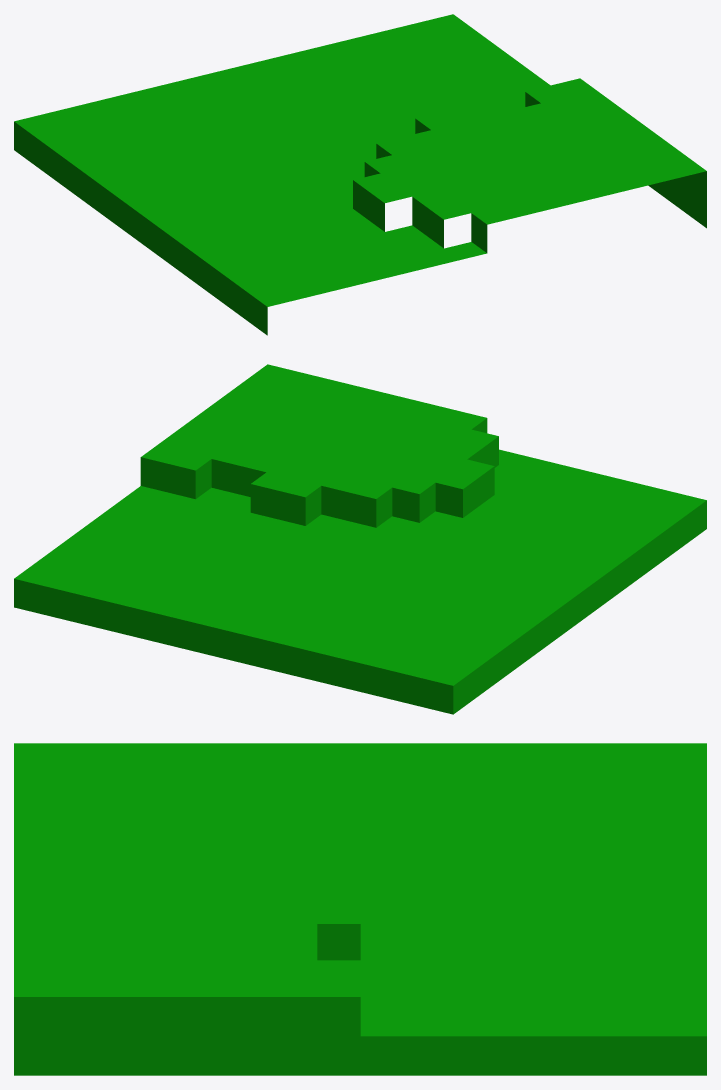
Rendered from Corner4.fbx.
3 views of the same model, one above another, from view 1: azimuth 30°, elevation 25°; view 2: azimuth 150°, elevation 25°; view 3: azimuth 270°, elevation 25° (orthographic). The views are drawn at different scales.
Parts seen in each view (by area): view 1: Matrix; view 2: Matrix; view 3: Matrix.
Boxes of the visible parts, <box> form: Matrix: <box>14,14,706,335</box>; Matrix: <box>14,364,706,714</box>; Matrix: <box>14,743,706,1075</box>.
Size of the model in its own units: 16 by 2 by 16.
Materials: 1 (1 with a texture image).
